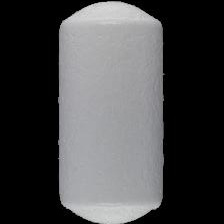50458-550: (0, 0, 224, 224)
